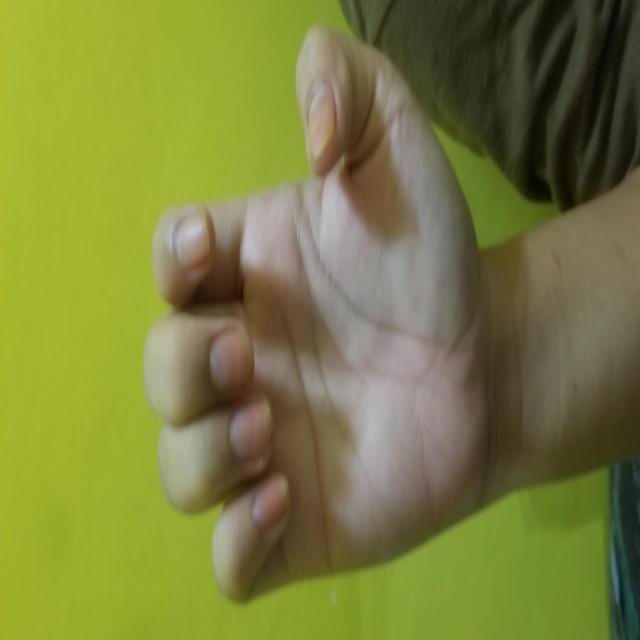E: (31, 140, 612, 490)
